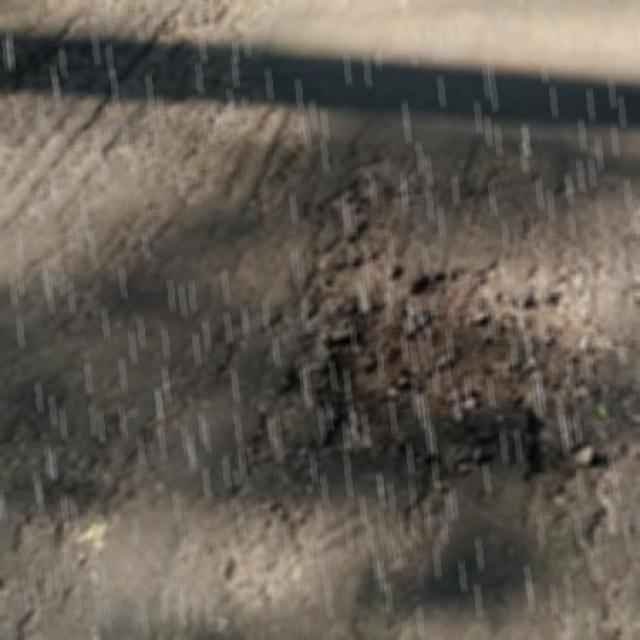road-pothole: (129, 73, 638, 639)
